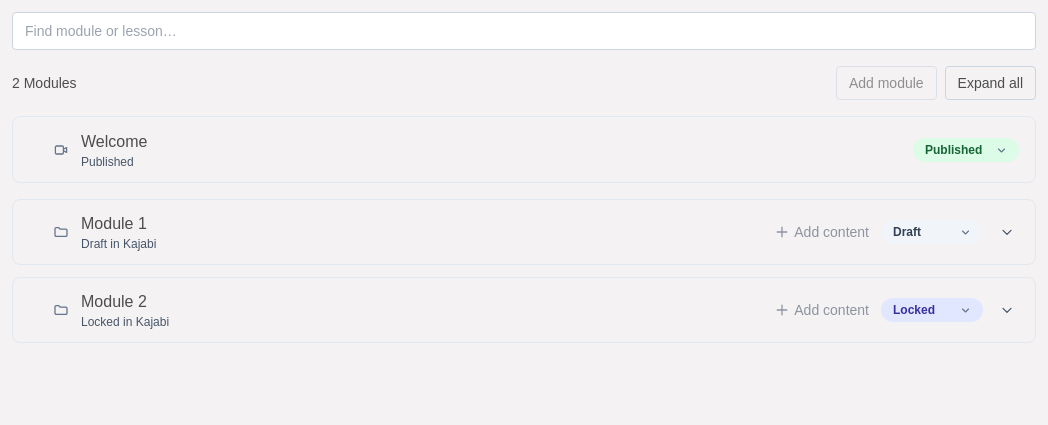
it: BuilderOutline › starts with the modules collapsed, counting them, and opens one at a time
Check: the text "2 Modules" is shown, box 12,73 -> 77,93
Check: the text "Reader expectations" is not shown
Click the button named "Expand Module 2" at point(1007, 310), box 995,298 -> 1019,322
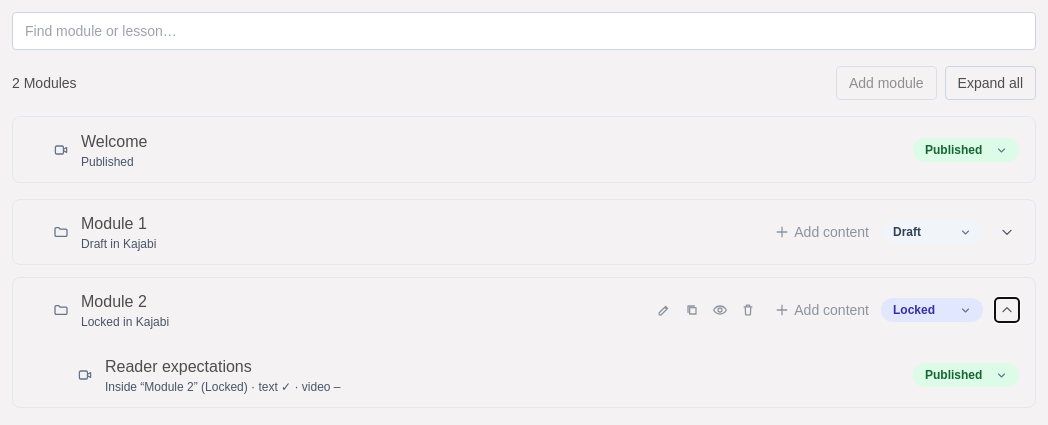
Check: the link "Reader expectations" is shown, box 105,358 -> 252,375
Click the button named "Collapse Module 2" at point(1007, 310), box 995,298 -> 1019,322
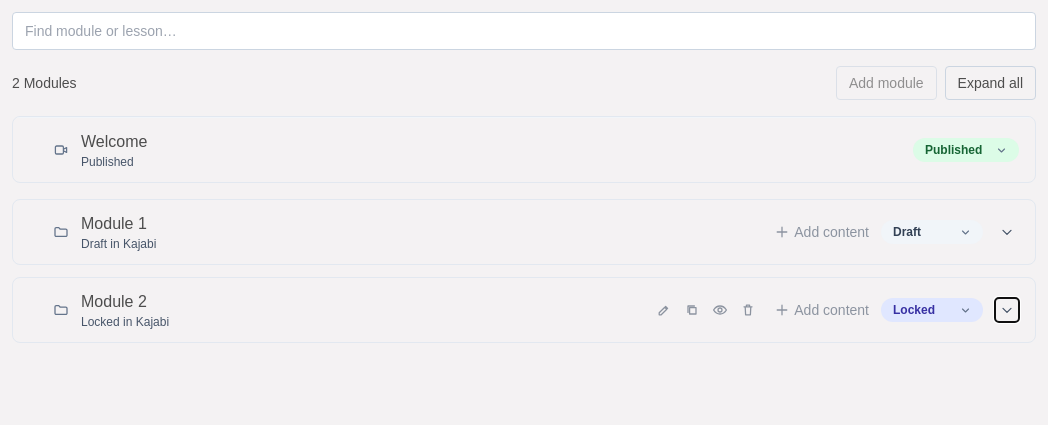
Check: the link "Reader expectations" is gone
